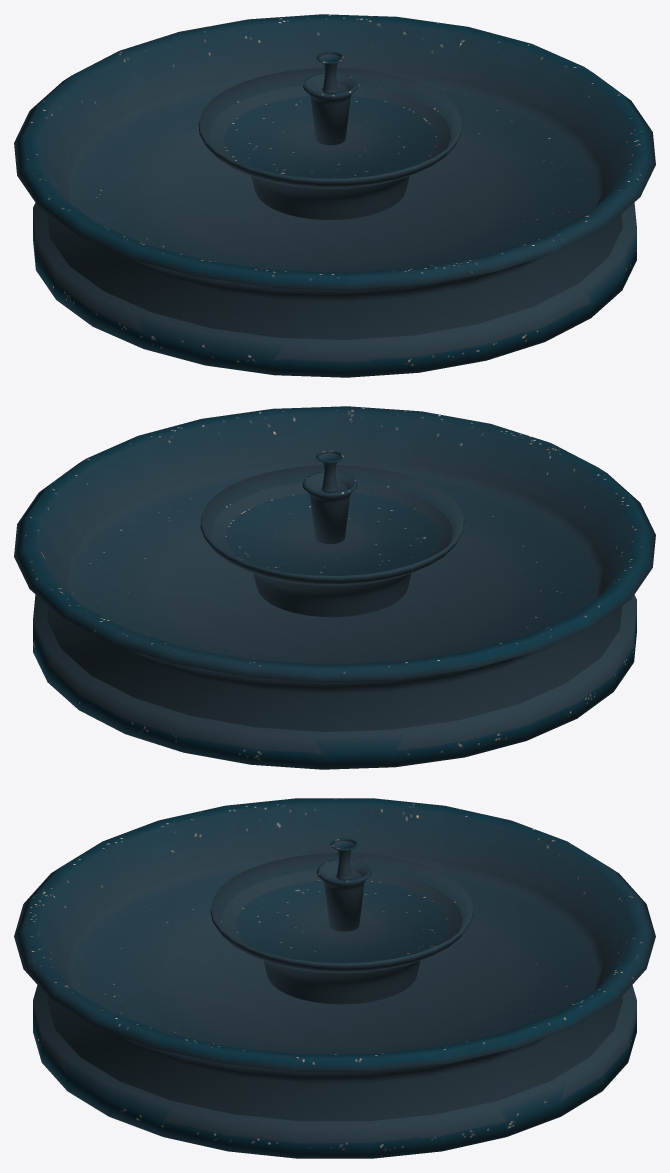
The model's file is fountain.fbx.
3 views of the same model, one above another, from view 1: azimuth 30°, elevation 25°; view 2: azimuth 150°, elevation 25°; view 3: azimuth 270°, elevation 25° (orthographic).
Visible parts, largest first — view 1: Cylinder.004; view 2: Cylinder.004; view 3: Cylinder.004.
Part boxes in pixels (bbox=[...]): Cylinder.004: bbox=[14, 14, 655, 377]; Cylinder.004: bbox=[14, 406, 655, 769]; Cylinder.004: bbox=[14, 798, 655, 1158].
Size of the model in its own units: 980 by 320 by 988.
